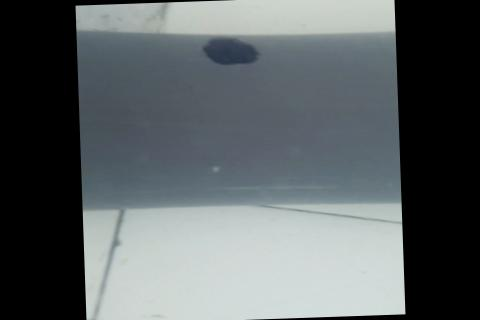kebocoran: (198, 33, 261, 69)
